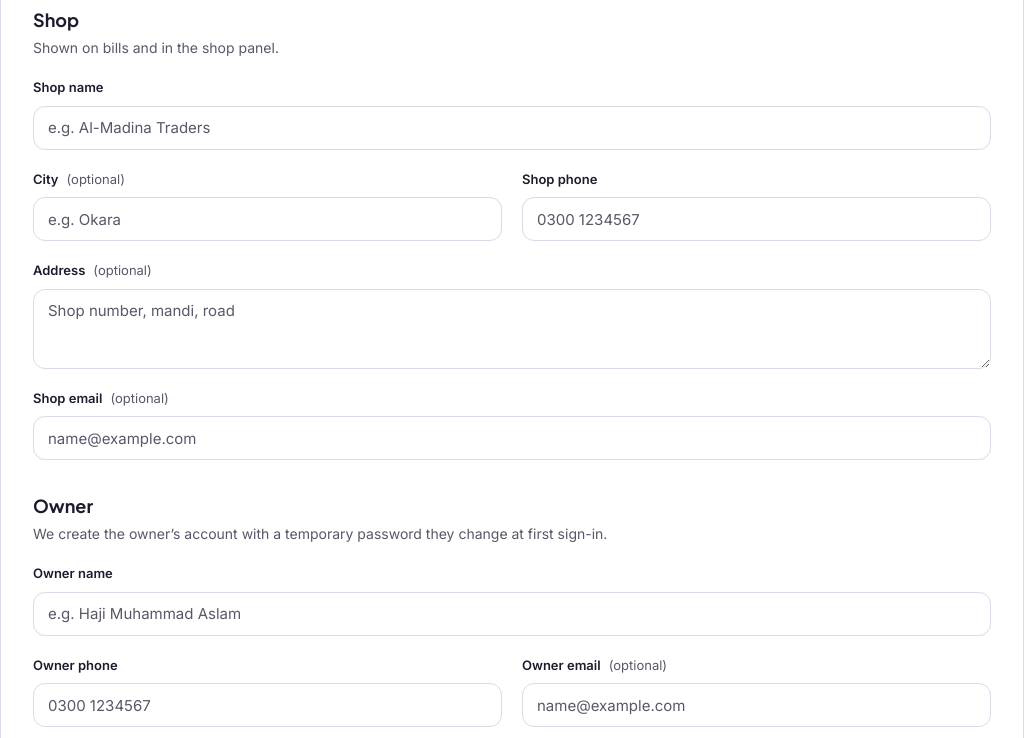
Test: CreateShopForm › 409 EMAIL_TAKEN without field list still marks the owner email
Type "Al-Madina Traders" into the field labelled "Shop name" at (512, 128), box [33,106,991,150]
Type "Okara" into the field labelled "City (optional)" at (268, 219), box [33,197,502,241]
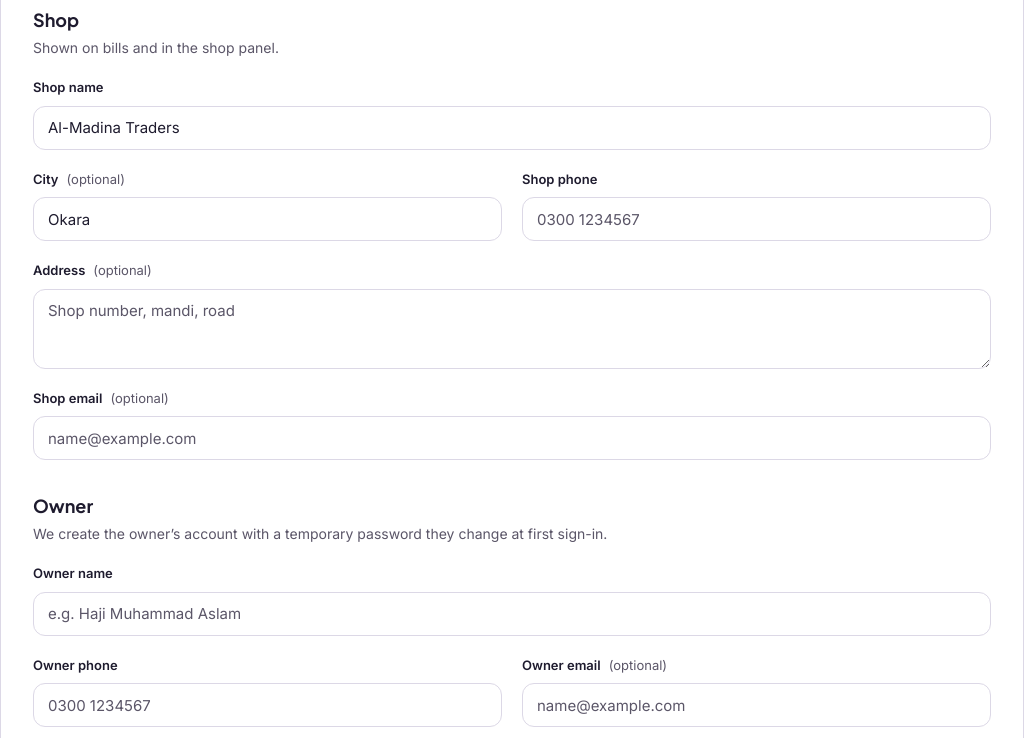
Type "0300-1234567" into the field labelled "Shop phone" at (756, 219), box [522,197,991,241]
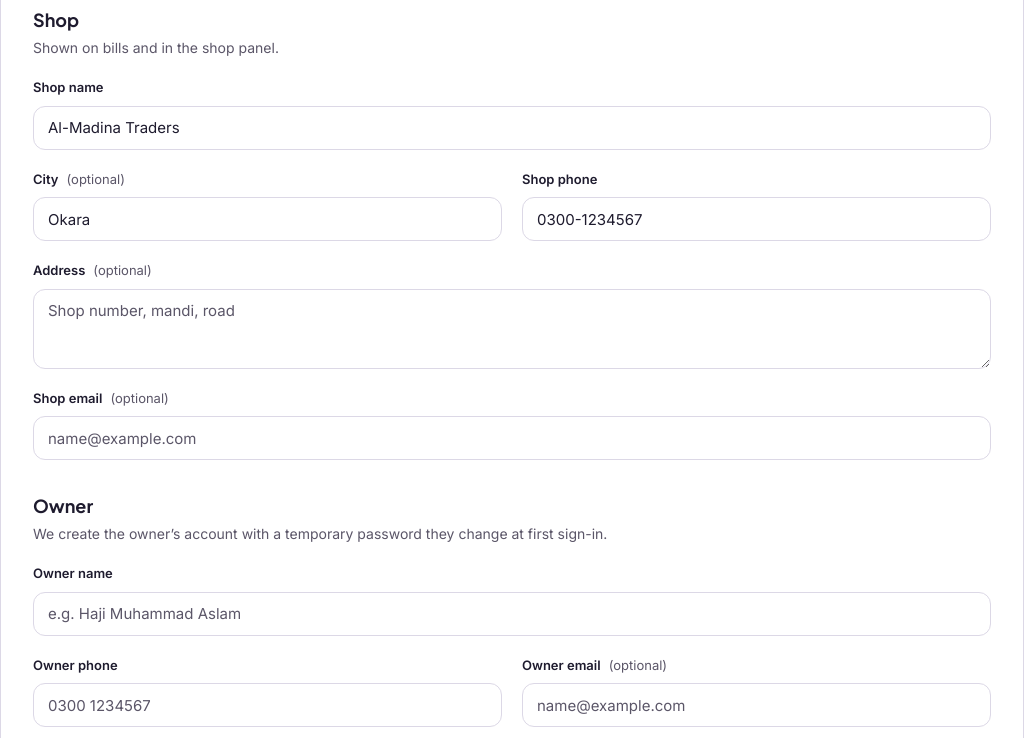
Type "Haji Aslam" into the field labelled "Owner name" at (512, 614), box [33,592,991,636]
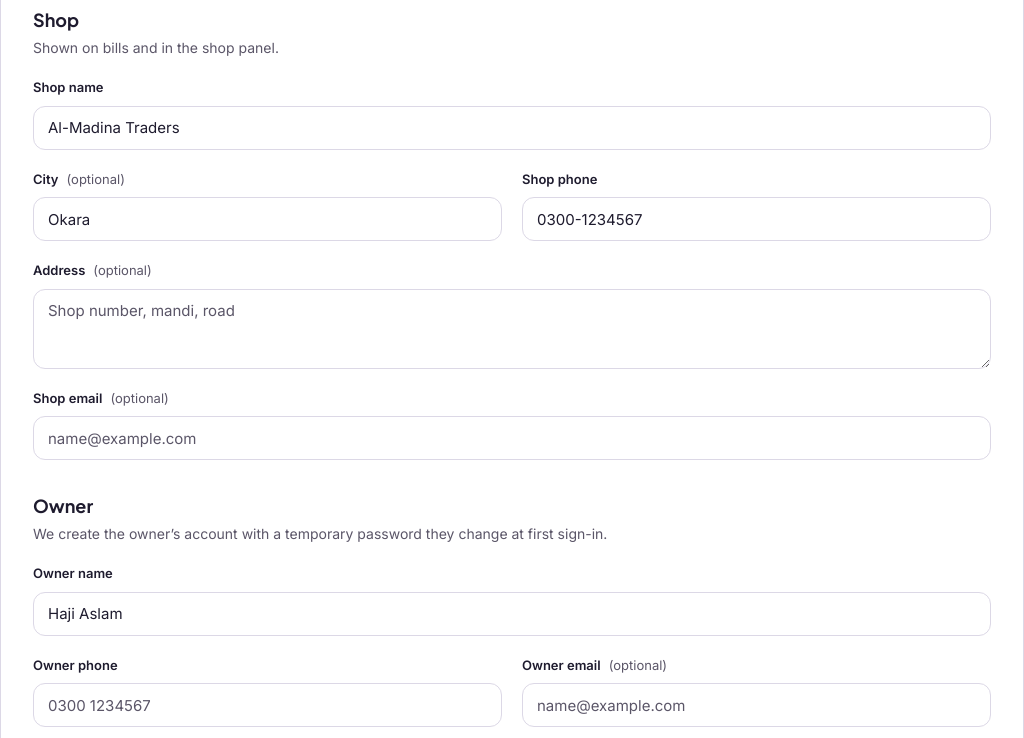
Type "0300 7654321" into the field labelled "Owner phone" at (268, 705), box [33,683,502,727]
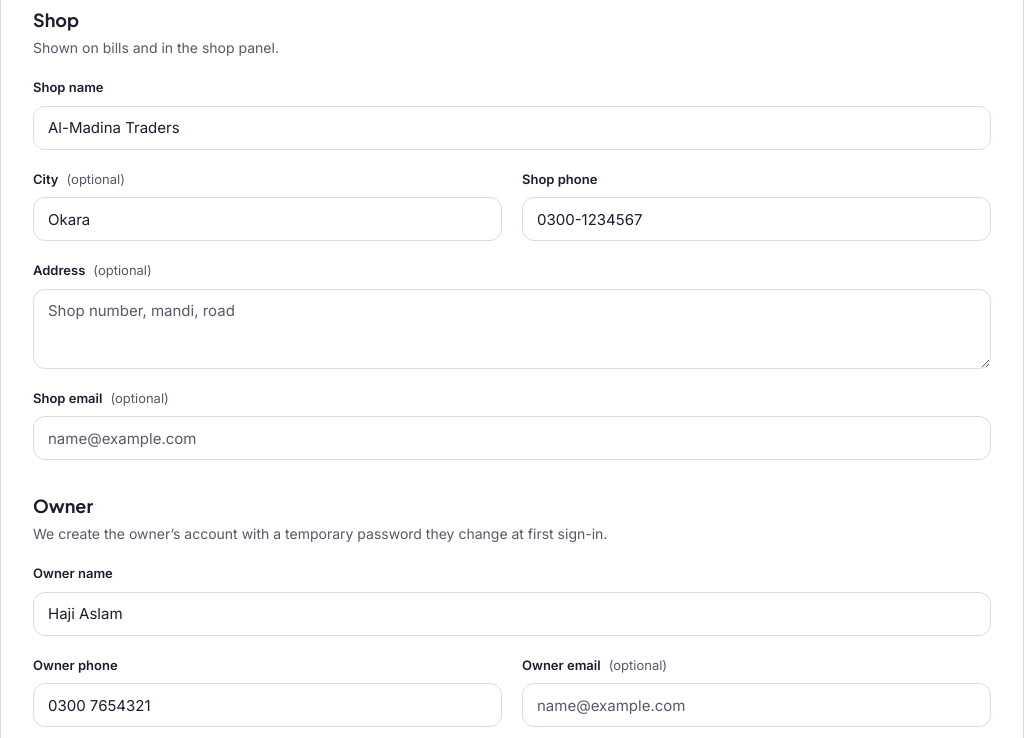
Type "owner@example.com" into the field labelled "Owner email (optional)" at (756, 705), box [522,683,991,727]
(page scrolled)
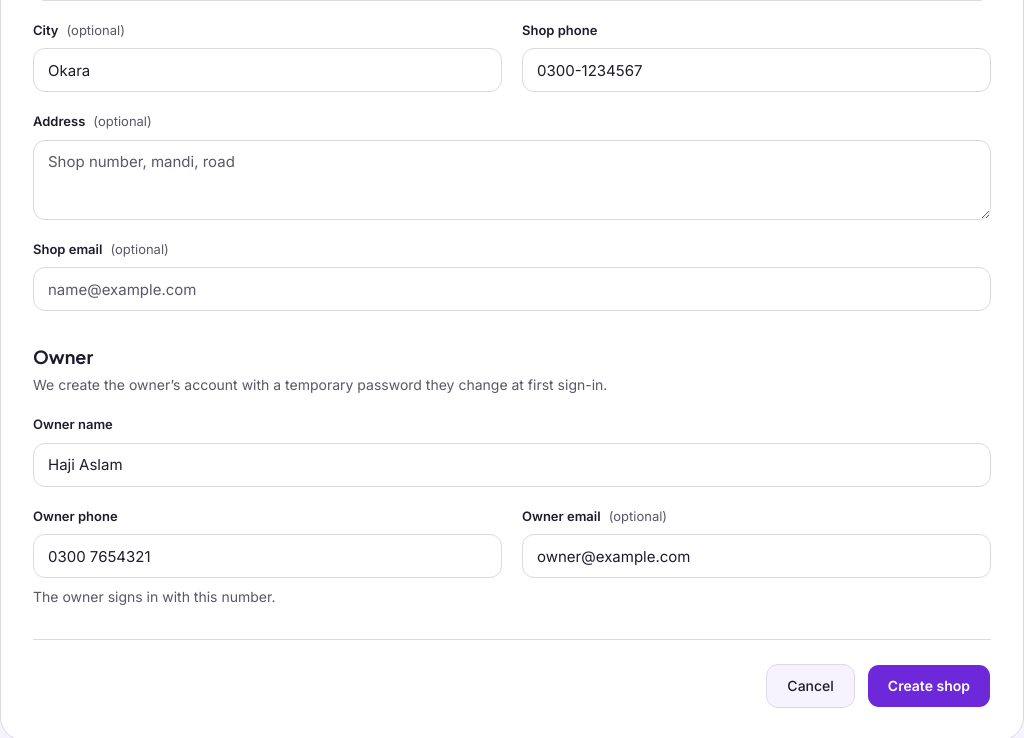
Click the button "Create shop" at (929, 686), box [867,664,991,708]
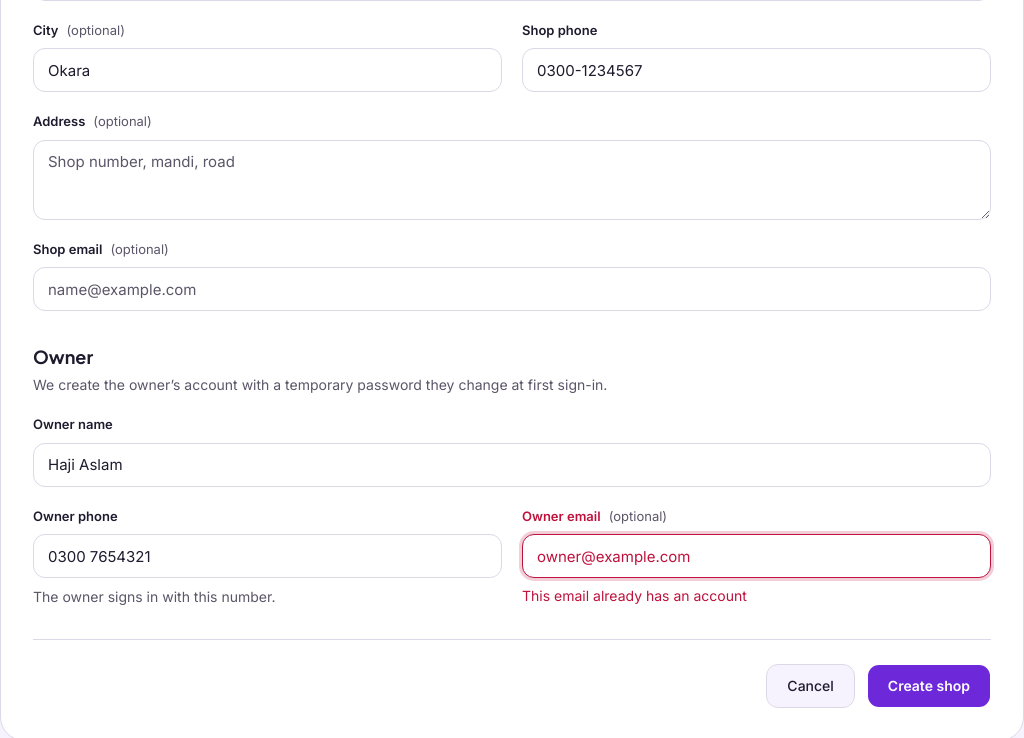
Now the text "This email already has an account" is shown, box [522,587,747,604]
